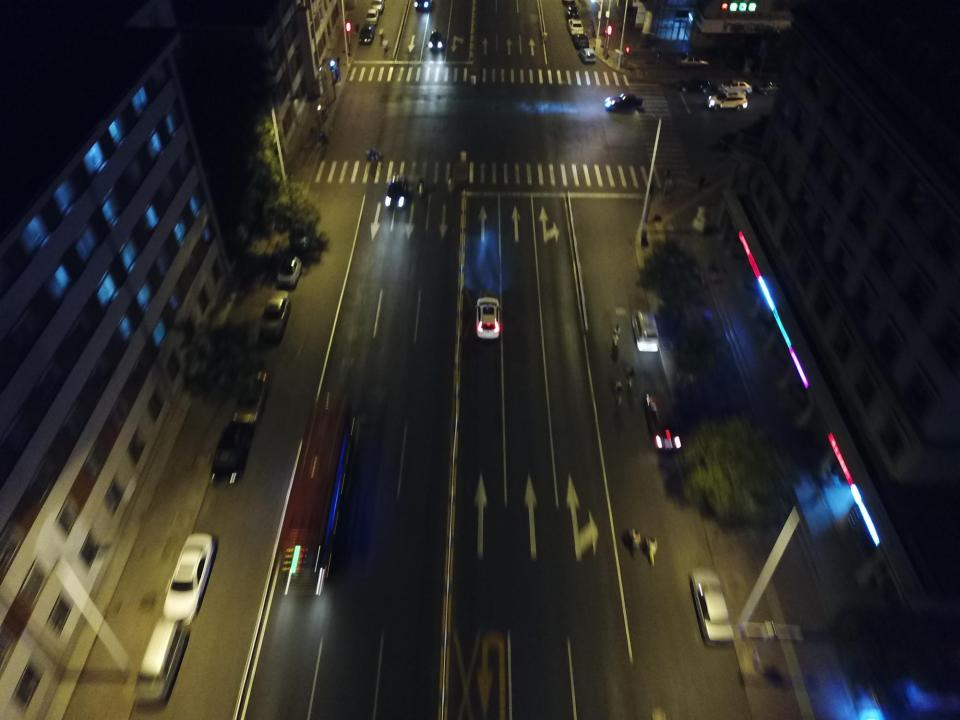bus: (276, 391, 352, 598)
car: (165, 532, 216, 619), (688, 568, 733, 644), (212, 421, 250, 482), (644, 391, 682, 452), (234, 365, 269, 423), (260, 288, 291, 336), (474, 297, 502, 338), (383, 173, 411, 205), (707, 92, 747, 110), (605, 94, 644, 110), (718, 80, 752, 95), (677, 78, 710, 93), (676, 54, 710, 68), (358, 25, 374, 45), (428, 30, 444, 49), (580, 47, 597, 64), (574, 32, 590, 48), (568, 18, 584, 34), (365, 9, 378, 24), (566, 5, 578, 18), (372, 0, 384, 12)
van: (134, 618, 188, 704), (632, 311, 659, 354), (278, 251, 303, 286)
